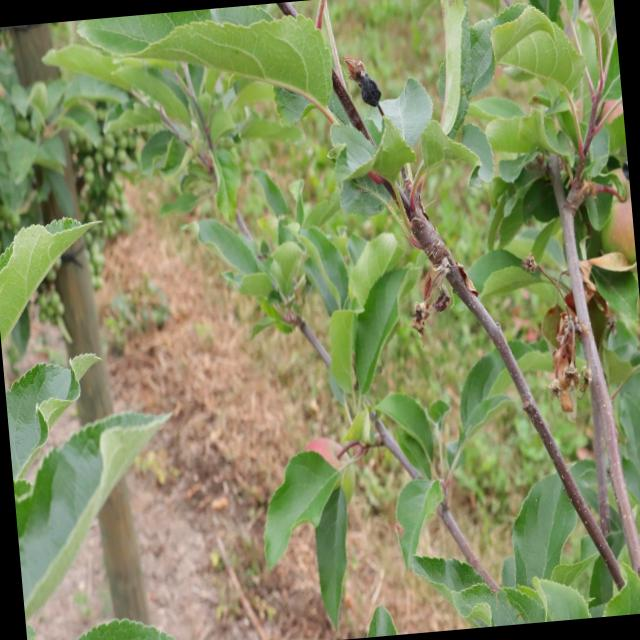-FireBlight-: (537, 241, 625, 407)
